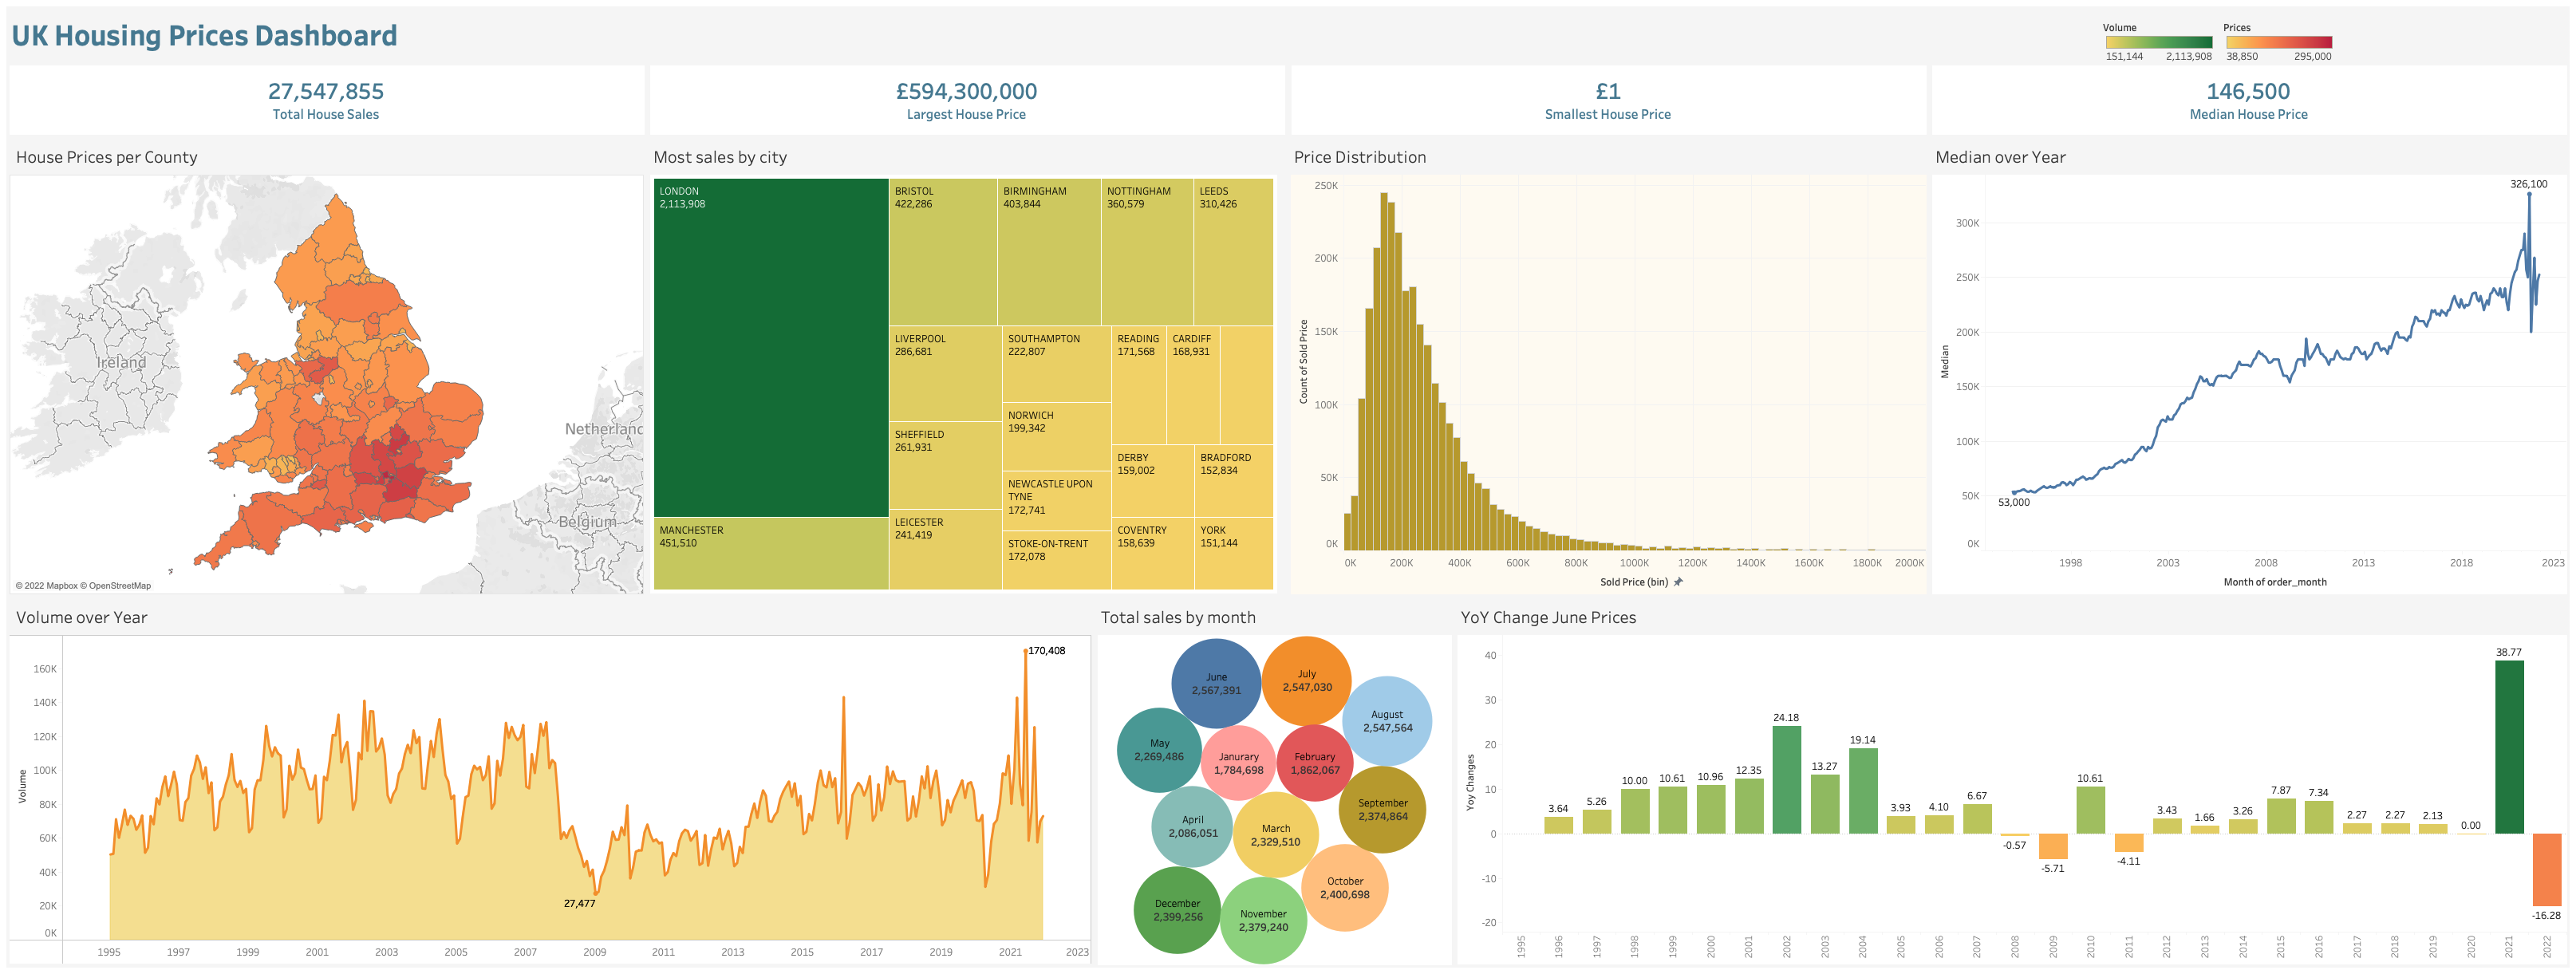

What the dashboard file says about the page in this screenshot:
{"tool":"tableau","page":{"name":"Dashboard 1","canvas":[1000,1000],"units":"permille","ordinal":0},"visuals":[{"type":"title","box":[2.5,6.5,995,57.3]},{"type":"legend","title":"Cities - Volume","param":"[federated.0lwlhz31npqd4t1740dcz04lverl].[sum:volume:qk]","box":[816.5,18,43.7,62.2]},{"type":"legend","title":"Counties - Prices","param":"[federated.0ltw78f055meus13vl8990sa4kmu].[sum:median:qk]","box":[863,18,43.7,62.2]},{"type":"worksheet","title":"sales","mark":"Automatic","box":[2.5,63.9,248.8,77]},{"type":"worksheet","title":"max","mark":"Automatic","box":[251.2,63.9,248.8,77]},{"type":"worksheet","title":"min","mark":"Automatic","box":[500,63.9,248.8,77]},{"type":"worksheet","title":"average","mark":"Automatic","box":[748.8,63.9,248.8,77]},{"type":"worksheet","title":"Counties - Prices","mark":"Automatic","box":[2.5,140.9,248.6,472.4]},{"type":"worksheet","title":"Cities - Volume","mark":"Automatic","box":[251.1,140.9,248.7,472.4]},{"type":"worksheet","title":"distribution","mark":"Automatic","rows":["sold_price"],"cols":["Sold Price (bin)"],"box":[499.7,140.9,249,472.4]},{"type":"worksheet","title":"Median over Year ","mark":"Line","rows":["median"],"cols":["order_month"],"box":[748.7,140.9,248.8,472.4]},{"type":"worksheet","title":" Volume over Year","mark":"Area","rows":["volume","volume"],"cols":["order_month"],"box":[2.5,613.3,422.3,380.2]},{"type":"worksheet","title":"Volume by Month","mark":"Circle","box":[424.8,613.3,139.7,380.2]},{"type":"worksheet","title":"YoY Change June Prices","mark":"Bar","rows":["yoy_changes"],"cols":["year"],"box":[564.4,613.3,432.9,380.2]}]}

Visuals, with their boxes on the dashboard's canvas, which has no fixed pixel size, in thousandths of its width and height (x1, y1, x2, y2). These are canvas units, not pixel positions in the 2576x974 screenshot, which may show the page scaled, cropped or inside an application window:
title: detection(2, 6, 998, 64)
"Cities - Volume" legend: detection(816, 18, 860, 80)
"Counties - Prices" legend: detection(863, 18, 907, 80)
"sales" worksheet: detection(2, 64, 251, 141)
"max" worksheet: detection(251, 64, 500, 141)
"min" worksheet: detection(500, 64, 749, 141)
"average" worksheet: detection(749, 64, 998, 141)
"Counties - Prices" worksheet: detection(2, 141, 251, 613)
"Cities - Volume" worksheet: detection(251, 141, 500, 613)
"distribution" worksheet: detection(500, 141, 749, 613)
"Median over Year " worksheet (Line marks): detection(749, 141, 998, 613)
" Volume over Year" worksheet (Area marks): detection(2, 613, 425, 994)
"Volume by Month" worksheet (Circle marks): detection(425, 613, 564, 994)
"YoY Change June Prices" worksheet (Bar marks): detection(564, 613, 997, 994)
